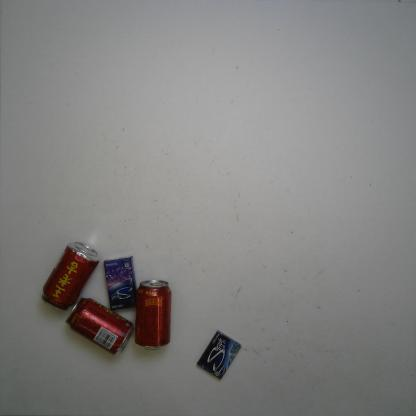Drink: (63, 297, 134, 356), (41, 242, 101, 311), (134, 278, 172, 352)
Gum: (195, 329, 242, 380), (103, 256, 137, 310)
